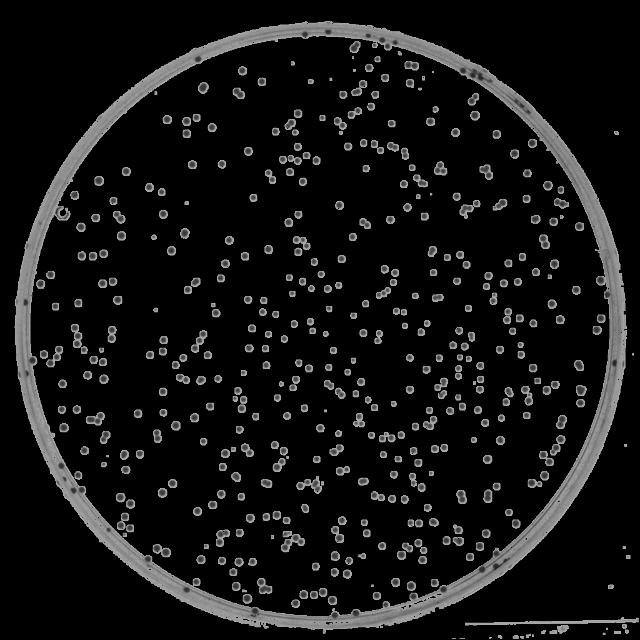colony: (574, 384, 588, 396), (574, 361, 586, 374), (178, 228, 190, 240), (94, 176, 106, 188), (547, 299, 559, 311), (554, 314, 566, 326), (595, 274, 605, 288), (114, 492, 126, 503), (157, 488, 169, 499), (46, 270, 59, 280), (198, 82, 208, 94), (165, 246, 177, 256), (117, 230, 127, 242), (113, 294, 123, 306), (190, 278, 202, 288), (224, 236, 236, 246), (239, 250, 249, 262), (98, 374, 110, 384), (230, 580, 240, 592), (491, 546, 501, 558), (526, 477, 536, 489), (444, 407, 456, 417), (404, 384, 416, 394), (404, 353, 416, 363), (511, 149, 521, 161), (575, 398, 587, 408), (528, 134, 536, 148), (441, 536, 452, 546), (452, 537, 463, 547), (503, 388, 513, 399), (463, 302, 472, 314), (238, 66, 248, 76), (492, 130, 502, 140), (121, 167, 131, 177), (157, 209, 167, 219), (70, 190, 80, 200), (90, 213, 100, 223), (76, 222, 86, 232), (97, 280, 107, 290), (36, 279, 46, 289), (51, 301, 61, 311), (73, 298, 83, 308), (264, 246, 274, 256), (158, 408, 168, 418), (288, 288, 298, 298), (336, 254, 346, 264), (126, 499, 136, 509), (220, 449, 230, 459), (192, 506, 202, 516), (298, 590, 308, 600), (407, 580, 417, 590), (481, 530, 491, 540), (466, 552, 476, 562), (335, 534, 345, 544), (362, 528, 372, 538), (429, 517, 439, 527), (495, 436, 505, 446), (458, 402, 468, 412), (480, 418, 490, 428), (439, 378, 449, 388), (454, 326, 464, 336), (285, 218, 295, 228), (336, 201, 346, 211), (508, 326, 518, 336), (576, 222, 586, 232), (572, 285, 582, 295), (596, 314, 606, 324), (592, 326, 602, 336), (108, 197, 119, 206), (193, 576, 201, 588), (474, 542, 486, 550), (503, 397, 511, 409), (532, 214, 540, 226), (544, 180, 552, 192), (550, 216, 558, 228), (550, 258, 558, 270), (70, 323, 80, 332), (234, 528, 243, 538), (392, 578, 401, 588), (453, 524, 462, 534), (398, 550, 407, 560), (338, 516, 347, 526), (483, 453, 493, 462), (438, 390, 447, 400), (359, 328, 368, 338), (373, 336, 382, 346), (386, 217, 396, 226), (84, 371, 92, 382), (196, 556, 207, 564), (357, 379, 368, 387), (538, 233, 550, 240), (163, 115, 173, 123), (270, 128, 280, 136), (451, 128, 461, 136), (418, 180, 428, 188), (298, 178, 308, 186), (250, 194, 260, 202), (108, 278, 118, 286), (184, 286, 192, 296), (216, 273, 224, 283), (52, 354, 62, 362), (60, 424, 70, 432), (146, 350, 154, 360), (172, 421, 180, 431), (197, 376, 207, 384), (214, 374, 222, 384), (195, 336, 203, 346), (244, 294, 252, 304), (236, 424, 244, 434), (282, 411, 292, 419), (328, 347, 338, 355), (298, 278, 308, 286), (334, 280, 344, 288), (74, 470, 82, 480), (120, 513, 130, 521), (170, 479, 178, 489), (121, 450, 129, 460), (122, 466, 132, 474), (232, 472, 240, 482), (208, 500, 218, 508), (162, 548, 170, 558), (216, 557, 226, 565), (263, 513, 271, 523), (273, 510, 281, 520), (301, 504, 309, 514), (262, 480, 272, 488), (260, 585, 268, 595), (292, 598, 300, 608), (328, 596, 336, 606), (330, 567, 338, 577), (342, 572, 352, 580), (431, 578, 439, 588), (378, 542, 388, 550), (330, 552, 340, 560), (361, 519, 371, 527), (492, 482, 500, 492), (512, 520, 520, 530), (358, 478, 368, 486), (388, 470, 398, 478), (432, 444, 440, 454), (396, 431, 406, 439), (472, 407, 482, 415), (524, 398, 534, 406), (520, 385, 530, 393), (420, 365, 430, 373), (435, 354, 443, 364), (454, 372, 464, 380), (418, 328, 426, 338), (390, 269, 400, 277), (349, 232, 357, 242), (401, 204, 411, 212), (421, 212, 429, 222), (444, 252, 452, 262), (461, 261, 471, 269), (484, 272, 494, 280), (528, 320, 538, 328), (496, 346, 506, 354), (516, 350, 526, 358), (532, 378, 542, 386), (502, 260, 512, 268), (518, 253, 526, 263), (523, 195, 531, 205), (524, 168, 532, 178), (610, 358, 618, 368), (544, 386, 552, 396), (556, 421, 566, 429), (557, 434, 565, 444), (89, 253, 98, 261), (77, 252, 86, 260), (191, 413, 199, 422), (80, 448, 88, 457), (217, 490, 226, 498), (234, 558, 243, 566), (217, 540, 226, 548), (217, 530, 226, 538), (409, 593, 418, 601), (439, 586, 448, 594), (413, 519, 422, 527), (458, 496, 467, 504), (335, 468, 343, 477), (418, 484, 427, 492), (409, 448, 418, 456), (343, 368, 352, 376), (530, 363, 538, 372), (182, 118, 192, 125), (250, 414, 260, 421), (248, 513, 255, 523), (469, 436, 476, 446), (378, 452, 389, 458), (364, 64, 372, 72), (411, 62, 419, 70), (359, 80, 367, 88), (182, 130, 190, 138), (188, 161, 196, 169), (244, 148, 252, 156), (294, 110, 302, 118), (471, 112, 479, 120), (360, 139, 368, 147), (370, 140, 378, 148), (392, 144, 400, 152), (399, 180, 407, 188), (313, 157, 321, 165), (269, 176, 277, 184), (145, 184, 153, 192), (116, 216, 124, 224), (100, 249, 108, 257), (222, 260, 230, 268), (90, 356, 98, 364), (99, 358, 107, 366), (55, 346, 63, 354), (40, 350, 48, 358), (160, 337, 168, 345), (179, 354, 187, 362), (172, 362, 180, 370), (206, 402, 214, 410), (212, 310, 220, 318), (259, 297, 267, 305), (259, 308, 267, 316), (248, 324, 256, 332), (154, 435, 162, 443), (262, 344, 270, 352), (262, 362, 270, 370), (273, 394, 281, 402), (300, 404, 308, 412), (324, 363, 332, 371), (286, 274, 294, 282), (307, 284, 315, 292), (317, 270, 325, 278), (309, 258, 317, 266), (294, 248, 302, 256), (292, 237, 300, 245), (240, 444, 248, 452), (238, 492, 246, 500), (273, 464, 281, 472), (269, 441, 277, 449), (316, 423, 324, 431), (330, 448, 338, 456), (296, 482, 304, 490), (312, 480, 320, 488), (252, 608, 260, 616), (244, 596, 252, 604), (257, 578, 265, 586), (414, 540, 422, 548), (418, 556, 426, 564), (346, 556, 354, 564), (424, 504, 432, 512), (484, 496, 492, 504), (401, 496, 409, 504), (388, 496, 396, 504), (370, 492, 378, 500), (440, 444, 448, 452), (387, 435, 395, 443), (356, 412, 364, 420), (338, 391, 346, 399), (334, 387, 342, 395), (363, 396, 371, 404), (371, 403, 379, 411), (428, 416, 436, 424), (522, 412, 530, 420), (465, 356, 473, 364), (361, 298, 369, 306), (390, 279, 398, 287), (412, 292, 420, 300), (381, 265, 389, 273), (295, 210, 303, 218), (364, 222, 372, 230), (430, 268, 438, 276), (456, 250, 464, 258), (503, 316, 511, 324), (514, 278, 522, 286), (453, 277, 461, 285), (542, 242, 550, 250), (604, 292, 612, 300), (552, 380, 560, 388), (558, 414, 566, 422), (553, 443, 561, 451), (245, 343, 252, 352), (348, 46, 358, 52), (405, 60, 411, 70), (344, 144, 354, 150), (480, 166, 490, 172), (85, 416, 95, 422), (292, 374, 298, 384), (324, 306, 334, 312), (155, 544, 161, 554), (145, 556, 155, 562), (415, 458, 421, 468), (451, 340, 457, 350), (469, 332, 475, 342), (532, 266, 538, 276), (558, 184, 564, 194), (538, 452, 548, 458), (258, 78, 266, 85), (193, 115, 201, 122), (207, 125, 215, 132), (434, 168, 442, 175), (454, 192, 461, 200), (294, 158, 302, 165), (286, 170, 294, 177), (151, 233, 159, 240), (108, 326, 115, 334), (108, 334, 115, 342), (46, 359, 54, 366), (59, 379, 67, 386), (200, 330, 207, 338), (294, 359, 302, 366), (484, 489, 492, 496), (394, 455, 401, 463), (401, 324, 409, 331), (424, 320, 431, 328), (474, 200, 482, 207), (372, 592, 381, 598), (412, 422, 418, 431), (158, 190, 165, 197), (406, 80, 414, 86), (371, 91, 377, 99), (194, 55, 202, 61), (237, 92, 245, 98), (219, 162, 227, 168), (348, 110, 354, 118), (389, 120, 395, 128), (426, 118, 434, 124), (460, 66, 466, 74), (476, 75, 484, 81), (378, 146, 384, 154), (294, 144, 302, 150), (279, 156, 287, 162), (112, 211, 120, 217), (23, 298, 29, 306), (74, 333, 82, 339), (30, 358, 38, 364), (58, 406, 66, 412), (159, 388, 167, 394), (136, 410, 142, 418), (204, 352, 212, 358), (192, 344, 198, 352), (235, 387, 241, 395), (241, 396, 247, 404), (237, 406, 245, 412), (101, 432, 109, 438), (100, 438, 108, 444), (152, 429, 160, 435), (199, 439, 207, 445), (264, 331, 272, 337), (306, 364, 312, 372), (323, 379, 329, 387), (292, 320, 298, 328), (324, 286, 332, 292), (118, 522, 124, 530), (136, 452, 144, 458), (247, 450, 253, 458), (250, 558, 256, 566), (224, 528, 230, 536), (284, 517, 290, 525), (298, 539, 304, 547), (281, 545, 289, 551), (282, 447, 288, 455), (334, 432, 342, 438), (336, 444, 342, 452), (314, 456, 320, 464), (314, 486, 322, 492), (185, 586, 191, 594), (230, 570, 238, 576), (319, 590, 327, 596), (313, 564, 319, 572), (357, 554, 365, 560), (408, 520, 414, 528), (456, 492, 464, 498), (504, 509, 512, 515), (378, 494, 384, 502), (343, 466, 349, 474), (408, 473, 416, 479), (367, 432, 375, 438), (352, 420, 358, 428), (352, 390, 358, 398), (426, 423, 434, 429), (426, 406, 432, 414), (477, 377, 485, 383), (476, 386, 484, 392), (454, 394, 462, 400), (434, 384, 442, 390), (350, 358, 358, 364), (454, 366, 462, 372), (498, 414, 504, 422), (350, 312, 358, 318), (462, 343, 468, 351), (436, 294, 444, 300), (383, 286, 391, 292), (393, 306, 399, 314), (401, 308, 407, 316), (482, 284, 490, 290), (505, 310, 513, 316), (502, 198, 508, 206), (502, 280, 508, 288), (546, 459, 554, 465), (541, 472, 549, 478), (538, 480, 544, 488), (374, 56, 381, 62), (364, 166, 371, 172), (183, 378, 190, 384), (241, 369, 247, 376), (301, 238, 307, 245), (304, 243, 310, 250), (78, 487, 85, 493), (220, 462, 227, 468), (354, 610, 361, 616), (409, 480, 416, 486), (376, 329, 382, 336), (358, 218, 364, 225), (489, 298, 496, 304), (459, 208, 465, 215), (496, 203, 502, 210), (554, 200, 560, 207), (24, 369, 30, 376), (301, 31, 307, 37), (393, 40, 399, 46), (382, 74, 388, 80), (356, 88, 362, 94), (351, 90, 357, 96), (340, 91, 346, 97), (232, 88, 238, 94), (285, 124, 291, 130), (334, 118, 340, 124), (356, 108, 362, 114), (368, 104, 374, 110), (473, 94, 479, 100), (468, 99, 474, 105), (438, 161, 444, 167), (441, 168, 447, 174), (304, 152, 310, 158), (266, 170, 272, 176), (74, 406, 80, 412), (96, 418, 102, 424), (160, 349, 166, 355), (178, 373, 182, 382), (232, 396, 238, 402), (272, 311, 278, 317), (281, 336, 287, 342), (290, 386, 296, 392), (308, 319, 314, 325), (310, 328, 316, 334), (322, 332, 328, 338), (58, 463, 64, 469), (127, 525, 133, 531), (282, 530, 288, 536), (280, 459, 286, 465), (266, 587, 272, 593), (310, 592, 316, 598), (332, 612, 338, 618), (383, 602, 389, 608), (479, 567, 485, 573), (494, 564, 500, 570), (402, 542, 408, 548), (407, 546, 413, 552), (428, 471, 434, 477), (380, 436, 386, 442), (359, 422, 365, 428), (422, 421, 428, 427), (478, 363, 484, 369), (431, 294, 437, 300), (375, 292, 381, 298), (516, 315, 522, 321), (564, 202, 570, 208), (284, 540, 292, 544), (420, 548, 428, 552), (332, 528, 340, 532), (382, 289, 386, 297), (427, 246, 435, 250), (60, 462, 64, 470), (326, 30, 330, 36), (378, 38, 384, 42), (353, 42, 359, 46), (470, 72, 474, 78), (388, 142, 392, 148), (403, 154, 409, 158), (410, 164, 414, 170), (414, 174, 418, 180), (486, 174, 492, 178), (287, 154, 291, 160), (74, 342, 80, 346), (81, 348, 87, 352), (98, 349, 104, 353), (98, 412, 102, 418), (278, 382, 284, 386), (329, 383, 333, 389), (101, 462, 105, 468), (72, 488, 76, 494), (232, 446, 236, 452), (294, 534, 298, 540), (306, 479, 310, 485), (204, 544, 208, 550), (457, 356, 463, 360), (428, 250, 432, 256), (518, 342, 522, 348), (463, 204, 467, 210), (468, 207, 474, 211), (550, 450, 556, 454), (386, 44, 390, 48), (373, 43, 377, 47), (320, 116, 324, 120), (290, 120, 294, 124), (341, 123, 345, 127), (309, 80, 313, 84), (433, 108, 437, 112), (402, 149, 406, 153), (416, 194, 420, 198), (106, 528, 110, 532), (288, 532, 292, 536), (384, 432, 388, 436), (392, 402, 396, 406), (492, 292, 496, 296), (562, 202, 564, 210), (368, 33, 370, 39), (527, 394, 533, 396), (294, 130, 296, 134), (493, 207, 495, 210)
